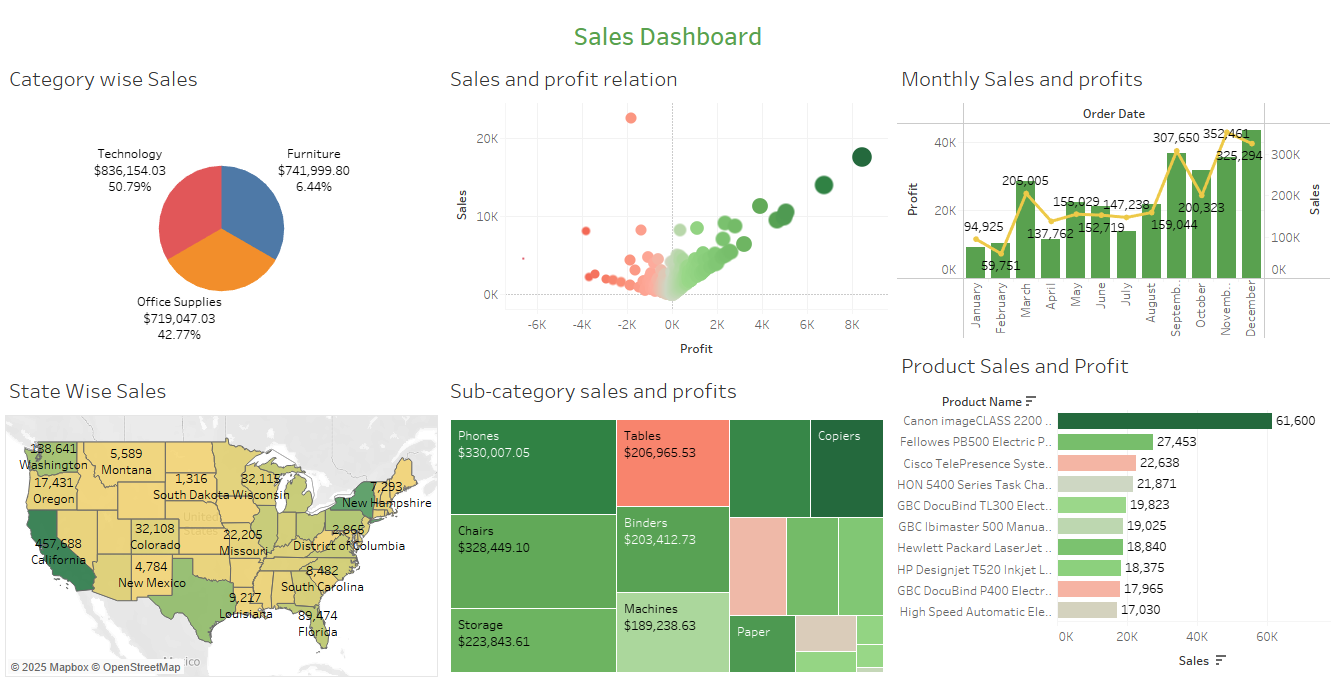

The page's visual inventory and layout, read from the dashboard file:
{"tool":"tableau","page":{"name":"Dashboard 1","canvas":[1000,1000],"units":"permille","ordinal":0},"visuals":[{"type":"title","box":[6,14.5,988.1,74.3]},{"type":"worksheet","title":"Category wise Sales","mark":"Pie","box":[6,88.8,326.8,448.3]},{"type":"worksheet","title":"Sales and profit relation","mark":"Automatic","rows":["Sales"],"cols":["Profit"],"box":[332.8,88.8,333.6,448.4]},{"type":"worksheet","title":"Monthly Sales and profits","mark":"Automatic","rows":["Profit","Sales"],"cols":["Order Date"],"box":[666.4,88.8,327.7,411.2]},{"type":"worksheet","title":"Product Sales and Profit","mark":"Automatic","rows":["Product Name"],"cols":["Sales"],"box":[666.4,500,327.7,485.5]},{"type":"worksheet","title":"State Wise Sales","mark":"Automatic","box":[6,537.1,326.8,448.4]},{"type":"worksheet","title":"Sub-category sales and profits","mark":"Automatic","box":[332.8,537.1,333.6,448.4]}]}

Visuals, with their boxes on the dashboard's canvas, which has no fixed pixel size, in thousandths of its width and height (x1, y1, x2, y2). These are canvas units, not pixel positions in the 1337x695 screenshot, which may show the page scaled, cropped or inside an application window:
title: (6, 14, 994, 89)
"Category wise Sales" worksheet (Pie marks): (6, 89, 333, 537)
"Sales and profit relation" worksheet: (333, 89, 666, 537)
"Monthly Sales and profits" worksheet: (666, 89, 994, 500)
"Product Sales and Profit" worksheet: (666, 500, 994, 986)
"State Wise Sales" worksheet: (6, 537, 333, 986)
"Sub-category sales and profits" worksheet: (333, 537, 666, 986)
